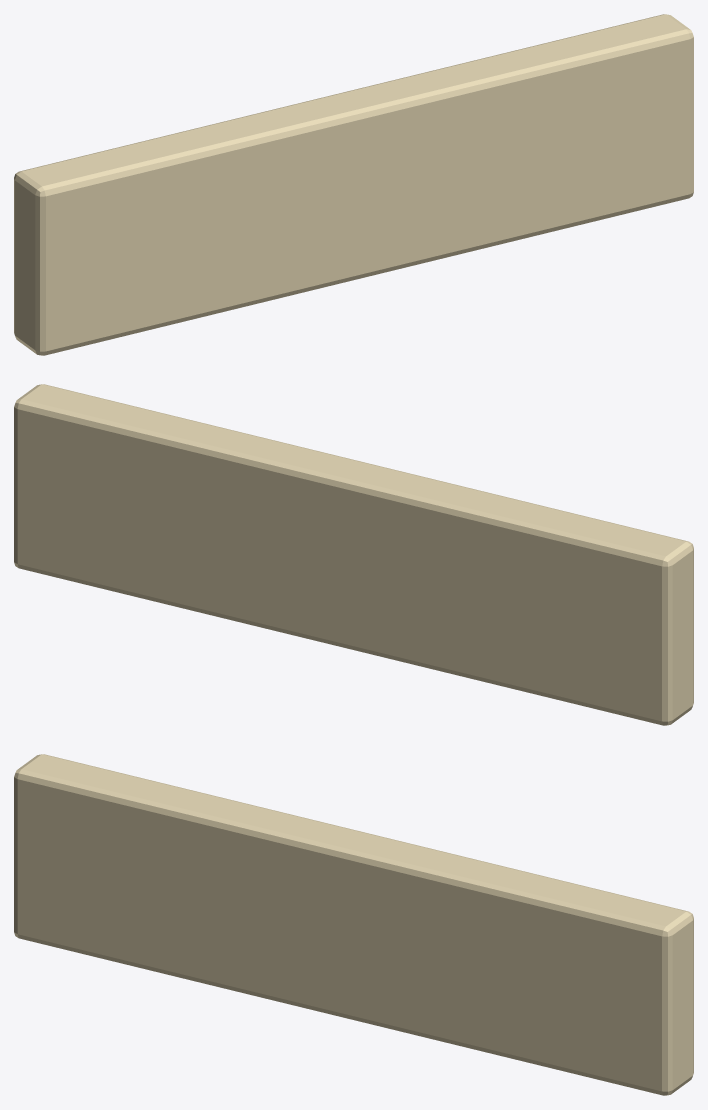
File: wall_knee_2m__finish.glb
3 views of the same model, one above another, from view 1: azimuth 30°, elevation 25°; view 2: azimuth 150°, elevation 25°; view 3: azimuth 330°, elevation 25° (orthographic).
Visible parts, largest first — view 1: wall_knee_2m__finish__mesh_00; view 2: wall_knee_2m__finish__mesh_00; view 3: wall_knee_2m__finish__mesh_00.
Part boxes in pixels (x1,y1,x2,y2): wall_knee_2m__finish__mesh_00: [14, 14, 693, 355]; wall_knee_2m__finish__mesh_00: [14, 384, 693, 725]; wall_knee_2m__finish__mesh_00: [14, 754, 693, 1095].
Size of the model in its own units: 1.75 by 0.43 by 0.13.
